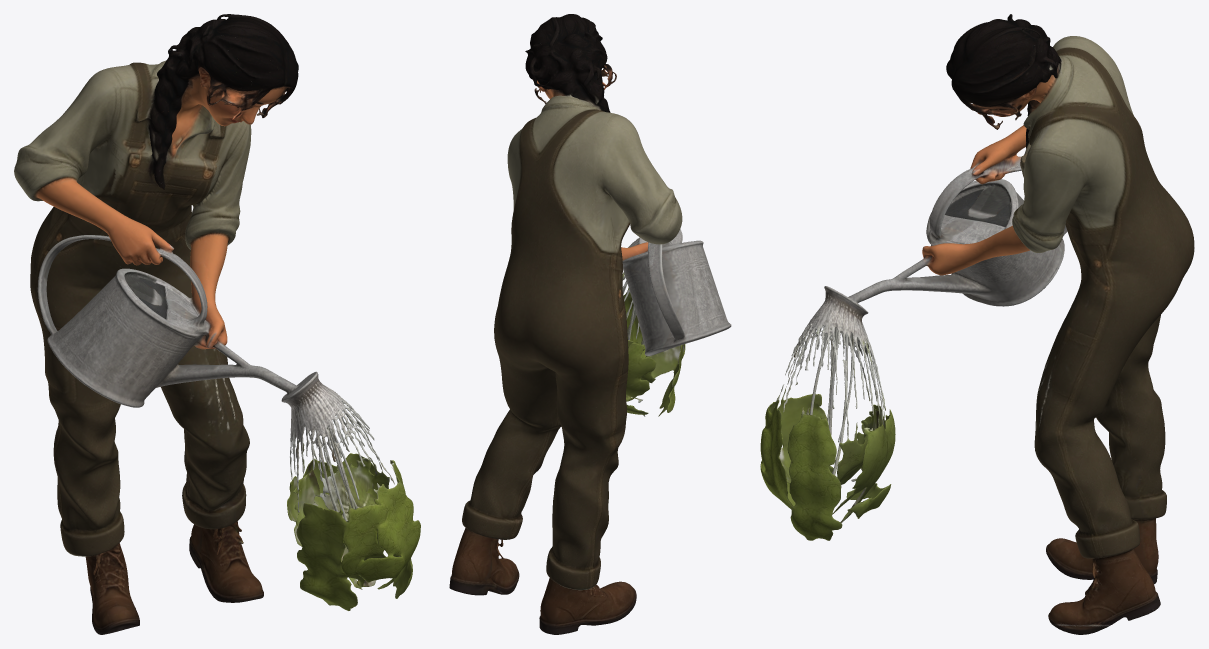
Rendered from farmer_pose1.glb.
3 views of the same model, side by side, from view 1: azimuth 30°, elevation 25°; view 2: azimuth 150°, elevation 25°; view 3: azimuth 270°, elevation 25° (orthographic). The views are drawn at different scales.
Size of the model in its own units: 0.8024 by 1.89 by 1.26.
Materials: 1 (1 with a texture image).
